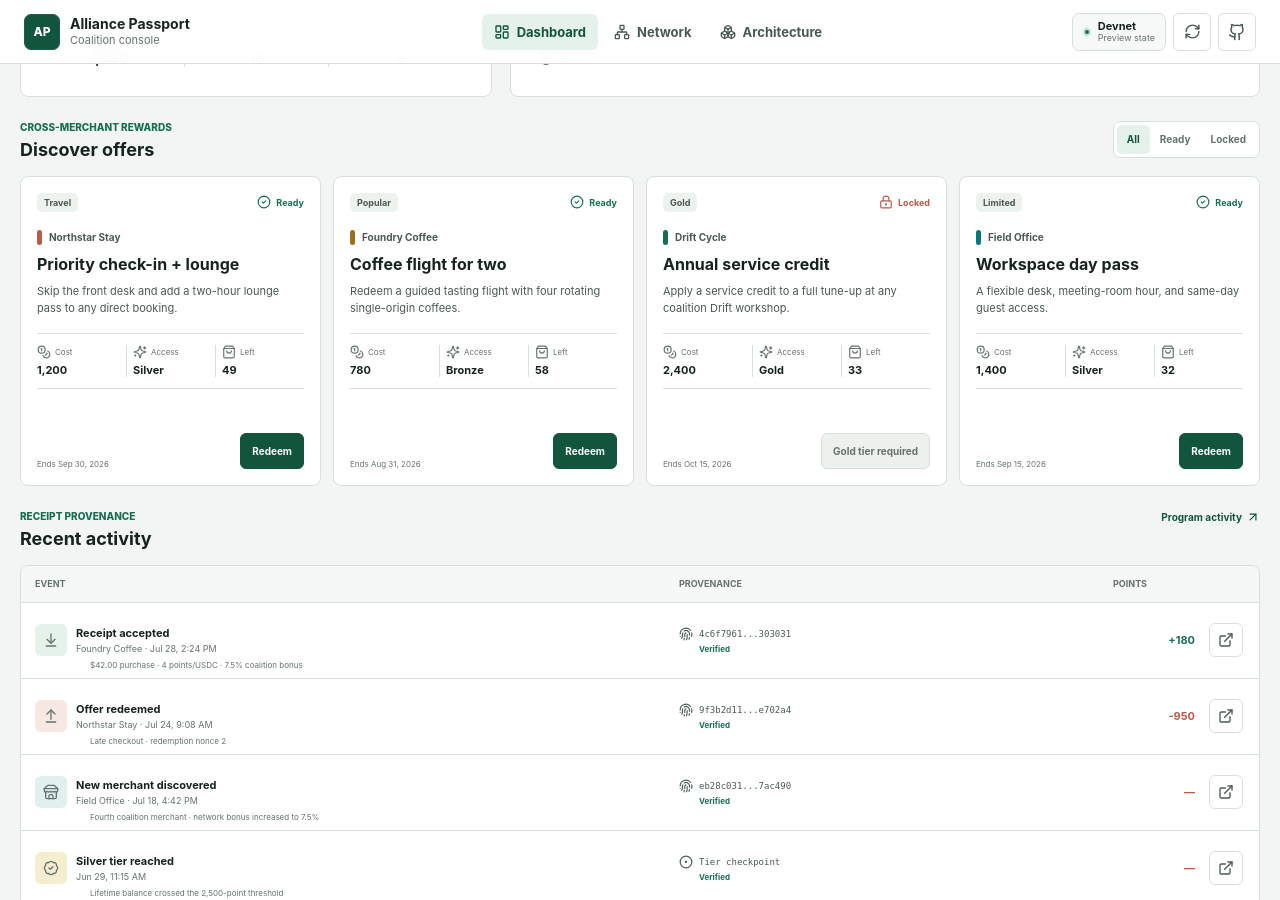
Alliance Passport app › opens an available offer and updates preview state after redemption
(page scrolled)
Expected: the element "Priority check-in + lounge" is shown, [20,176,321,486]
Click the button "Redeem" next to "Sep 30, 2026".
click(272, 451)  # box [240,433,304,469]
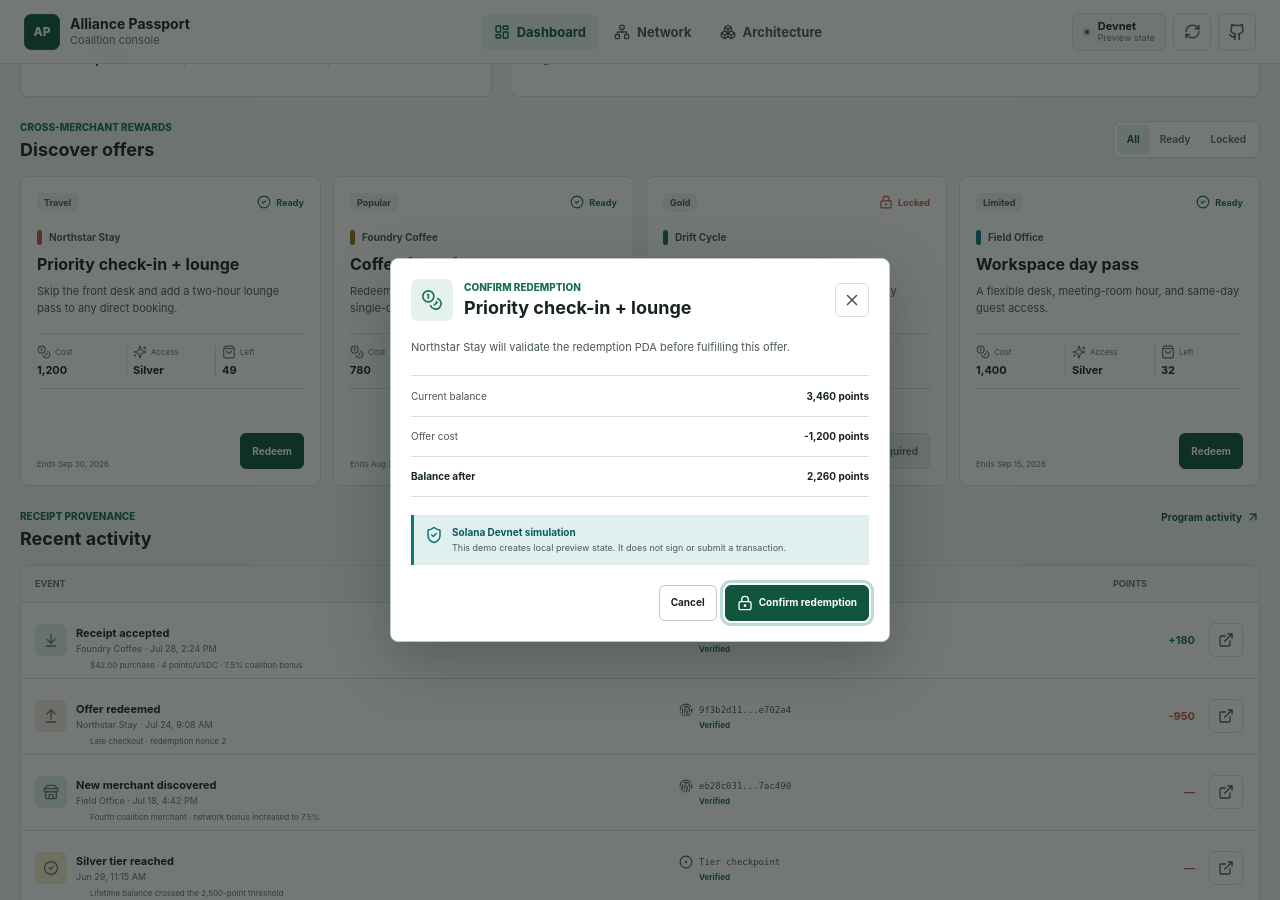
Now the dialog "Priority check-in + lounge" is shown, box [390,258,890,642]
Now the text "2,260 points" is shown, box [807,470,869,482]
Click the button "Confirm redemption".
click(797, 602)  # box [725,584,869,620]
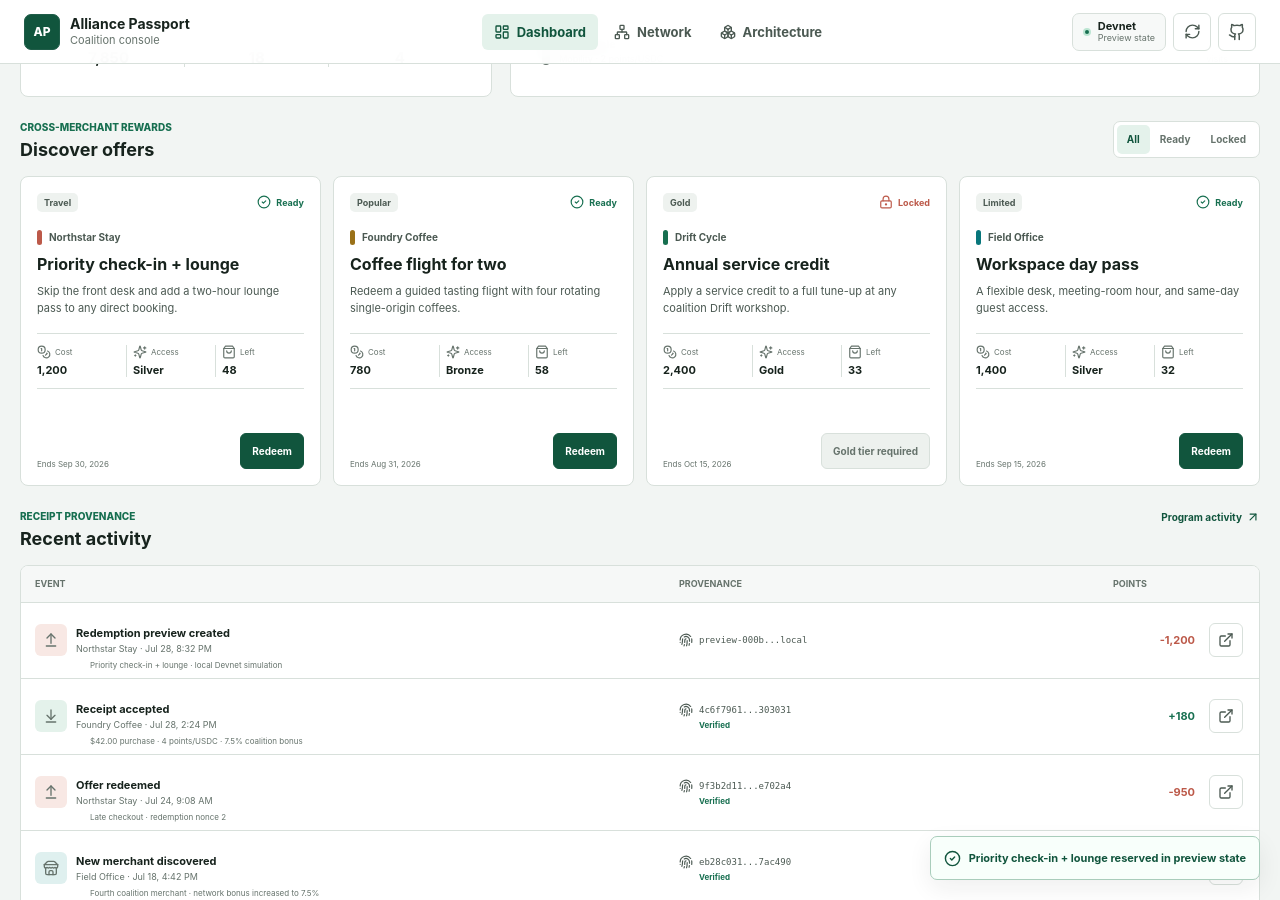
Now the text "Redemption preview created" is shown, box [76,626,230,640]
Now the text "Priority check-in + lounge reserved in preview state" is shown, box [930,836,1260,880]
